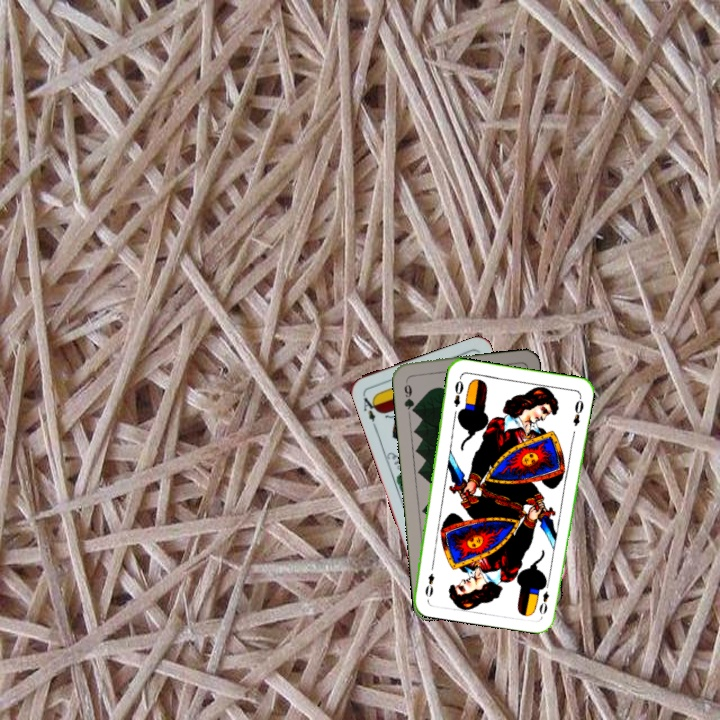EA: (359, 390, 381, 430)
EO: (535, 577, 552, 617), (449, 373, 466, 409)
G9: (400, 376, 418, 416)
